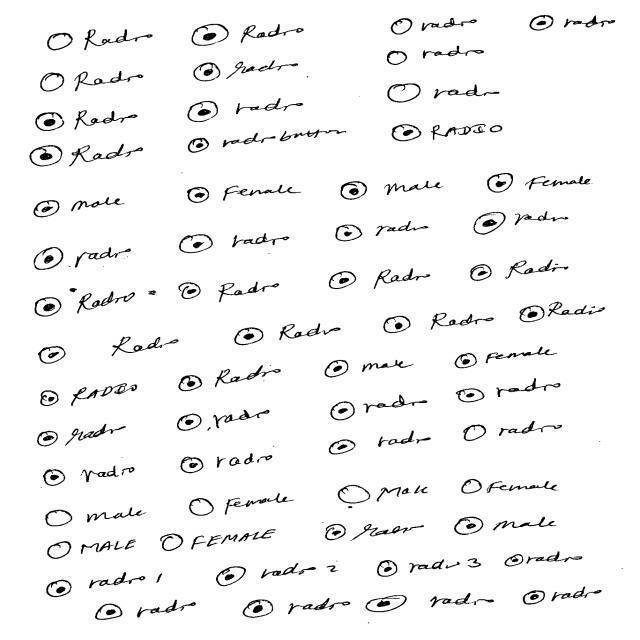radio: (185, 20, 234, 52), (468, 206, 511, 242), (384, 74, 423, 108), (389, 113, 424, 148), (365, 594, 411, 619), (27, 143, 66, 172), (30, 243, 65, 275), (336, 483, 375, 511), (186, 98, 223, 127), (179, 231, 217, 259), (329, 397, 360, 431), (320, 356, 355, 386), (484, 169, 517, 199), (387, 11, 417, 41), (454, 513, 487, 540), (216, 564, 249, 591), (38, 68, 67, 97), (36, 111, 68, 137), (94, 601, 127, 626), (242, 598, 276, 622), (47, 539, 75, 568), (470, 257, 496, 288), (450, 349, 481, 375), (35, 294, 64, 321), (39, 341, 68, 368), (194, 61, 223, 88), (328, 270, 360, 294), (234, 326, 266, 350), (34, 198, 63, 224), (178, 279, 207, 305), (189, 496, 218, 522), (460, 422, 490, 447), (159, 532, 189, 557), (383, 313, 413, 338), (341, 181, 371, 205), (48, 31, 75, 57), (40, 466, 69, 490), (45, 577, 74, 601), (45, 507, 75, 530), (180, 454, 207, 479), (457, 387, 488, 408), (336, 223, 364, 246), (519, 304, 547, 327), (177, 413, 206, 435), (176, 374, 205, 396), (188, 184, 213, 209), (461, 475, 485, 501), (328, 439, 357, 459), (528, 14, 556, 34), (323, 524, 349, 544), (522, 589, 548, 609), (188, 136, 211, 158), (377, 559, 399, 582), (36, 428, 60, 449), (387, 49, 409, 68), (39, 390, 60, 409), (504, 555, 526, 572)
